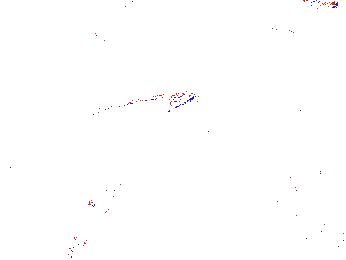X-ray fish: (67, 193, 89, 222)
glassfish: (67, 167, 131, 260), (75, 88, 202, 133)
red belly glassfish: (252, 15, 295, 39)
redtail glassfish: (124, 1, 184, 15)
